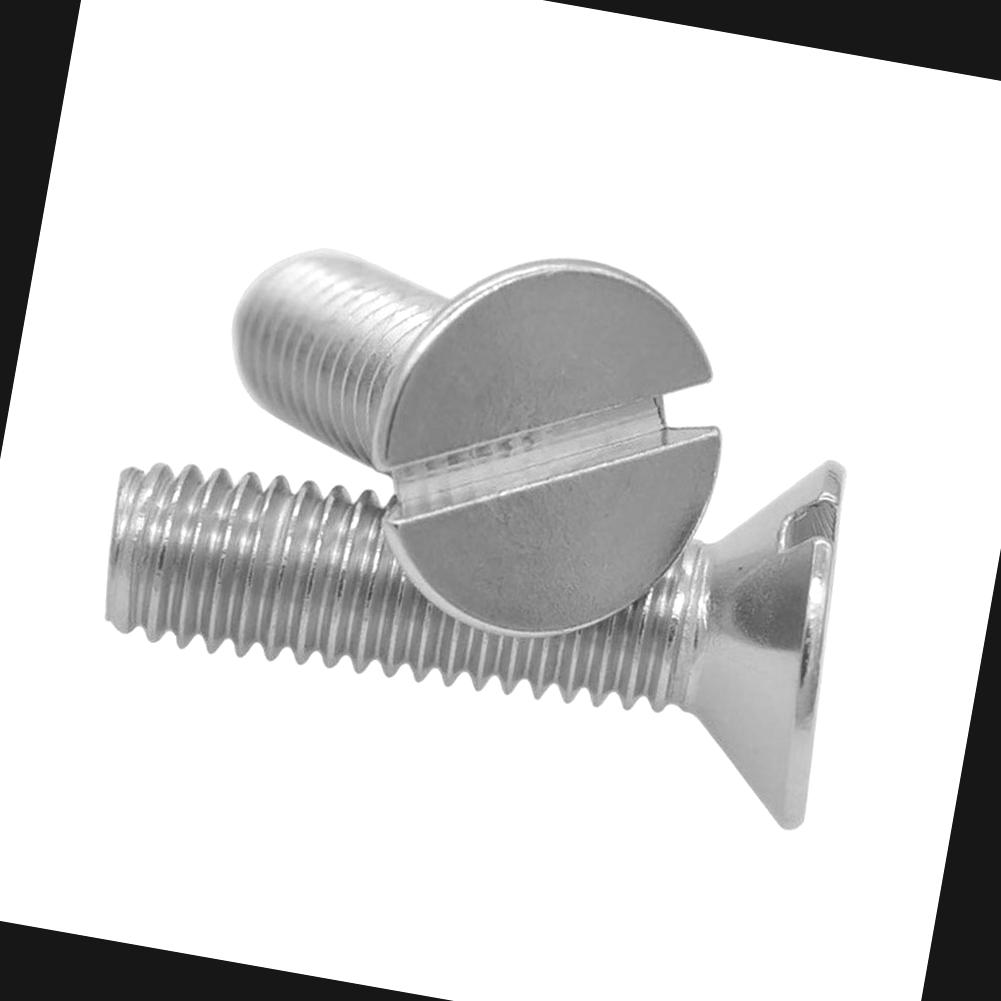slotted: (352, 225, 747, 666)
